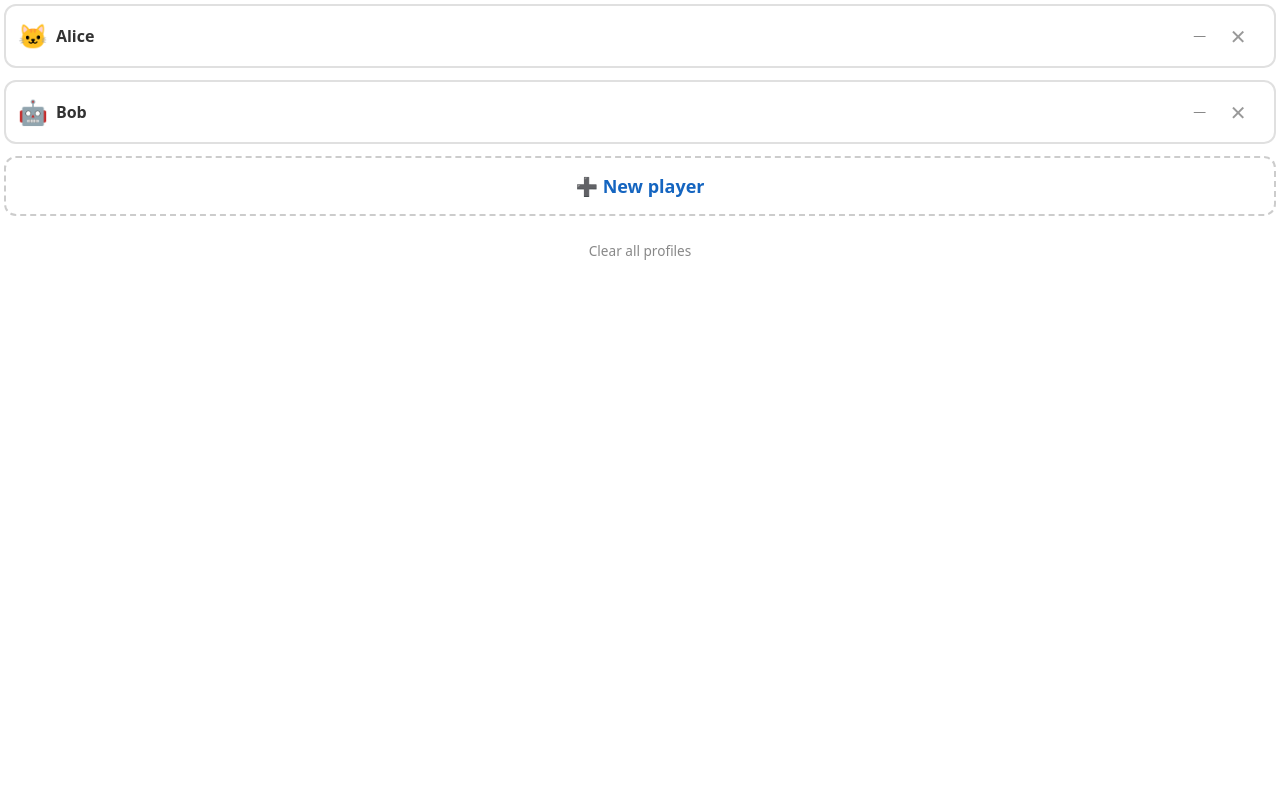
Scenario: PlayerList › shows delete confirmation when delete icon is clicked
The width and height of the screenshot is (1280, 800).
What coordinates should you click on to do the following:
click the button named "remove alice"
I would click on:
 (1238, 36)
Its box is [1214,14,1262,58].
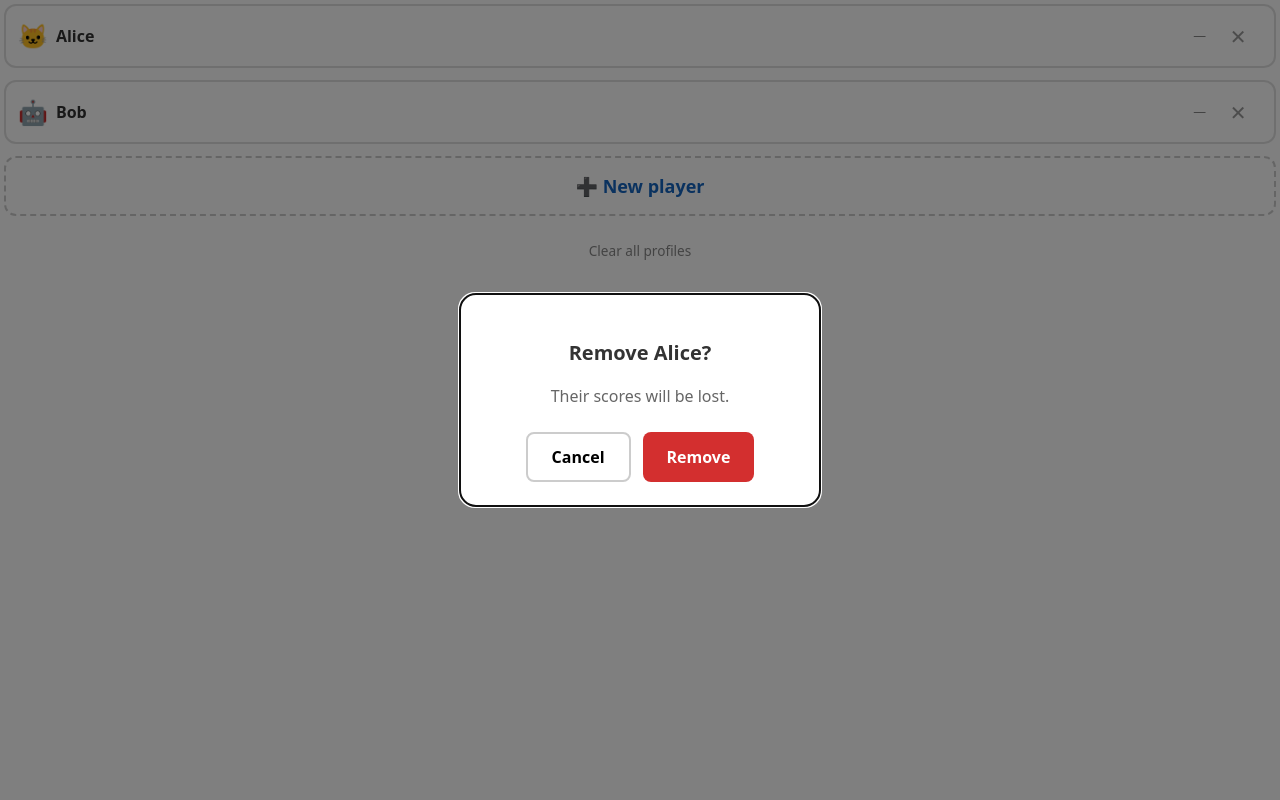
Expected: the dialog is shown, [460,294,820,506]
Expected: the text "Remove Alice?" is shown, [569,339,711,366]
